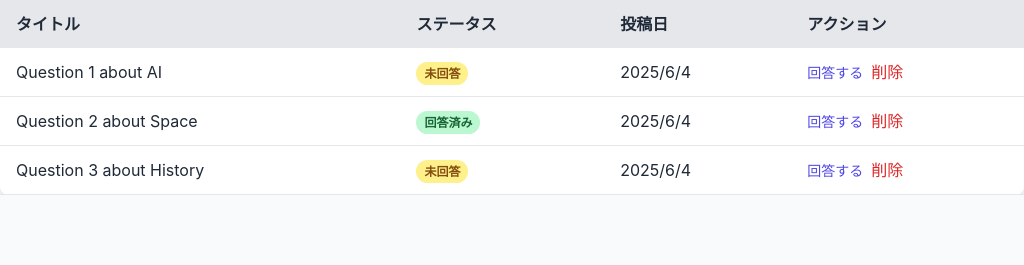
AdminQuestionList › should show error message when delete fails
Expected: the text "Question 1 about AI" is shown, [0,48,400,96]
Step 1. Click the button "削除" in the row of "Question 1 about AI" → (887, 72), box [871,60,903,84]
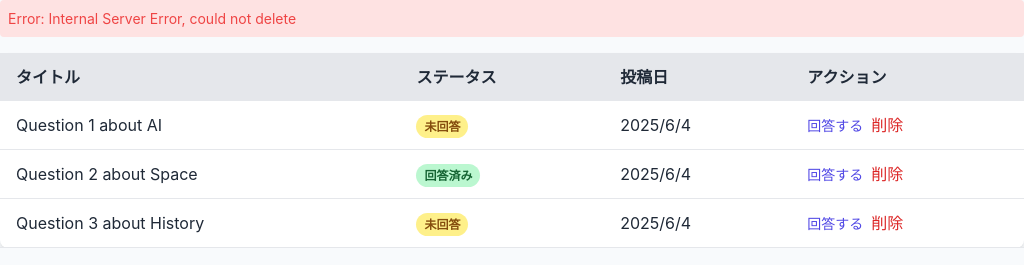
Expected: the text "Question 1 about AI" is shown, [0,101,400,150]
Now the text "Error: Internal Server Error, could not delete" is shown, box [0,0,1023,37]
